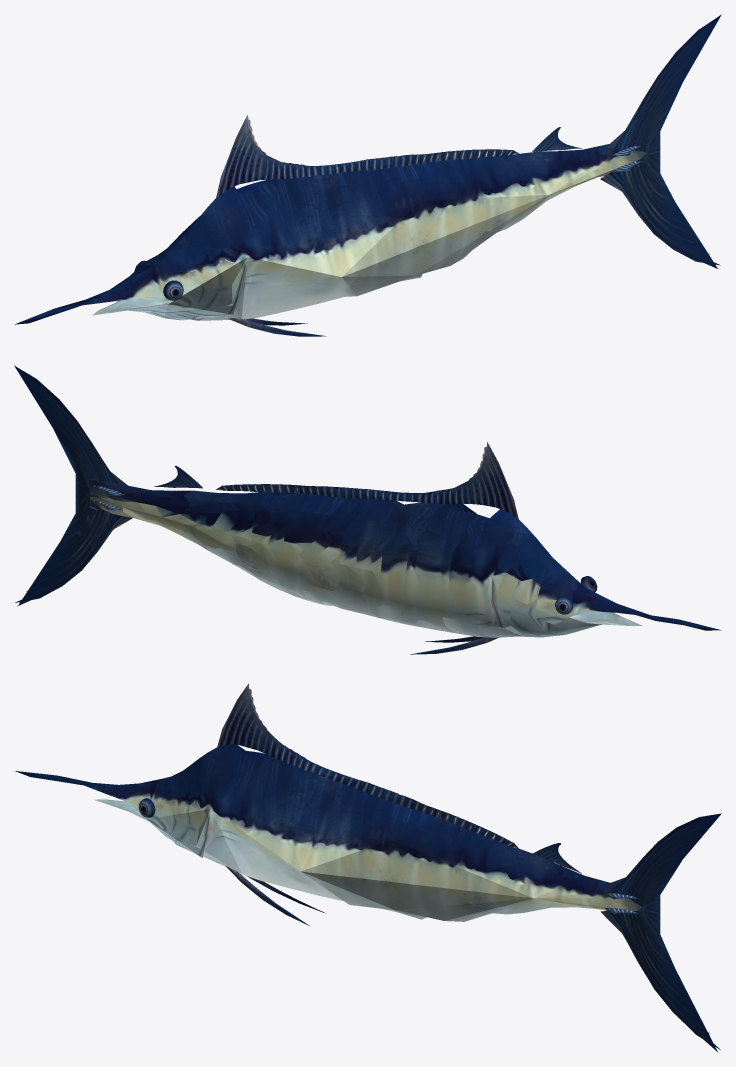
File: Sword Fish Animated.fbx
3 views of the same model, one above another, from view 1: azimuth 30°, elevation 25°; view 2: azimuth 150°, elevation 25°; view 3: azimuth 330°, elevation 25° (orthographic). The views are drawn at different scales.
Visible parts, largest first — view 1: object7_Mesh_003_Material_002; view 2: object7_Mesh_003_Material_002; view 3: object7_Mesh_003_Material_002.
Part boxes in pixels (x1,y1,x2,y2): object7_Mesh_003_Material_002: (14,14,721,336); object7_Mesh_003_Material_002: (14,365,721,654); object7_Mesh_003_Material_002: (15,683,721,1051).
Bounding box in the file's own units: 4.53 × 1.68 × 0.4792.
1 material, 1 textured.
